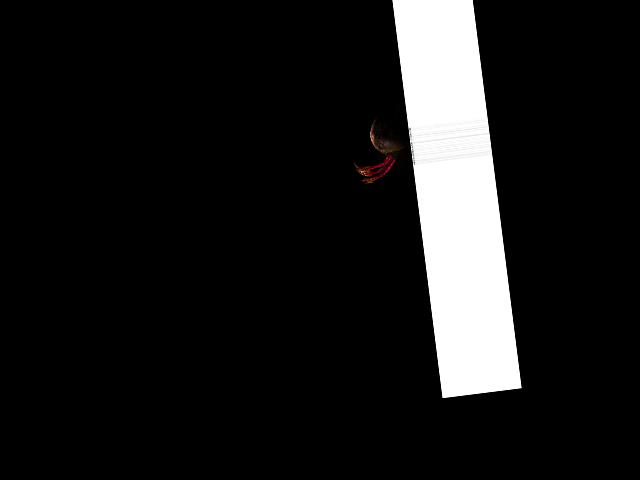beet: (347, 99, 414, 185)
